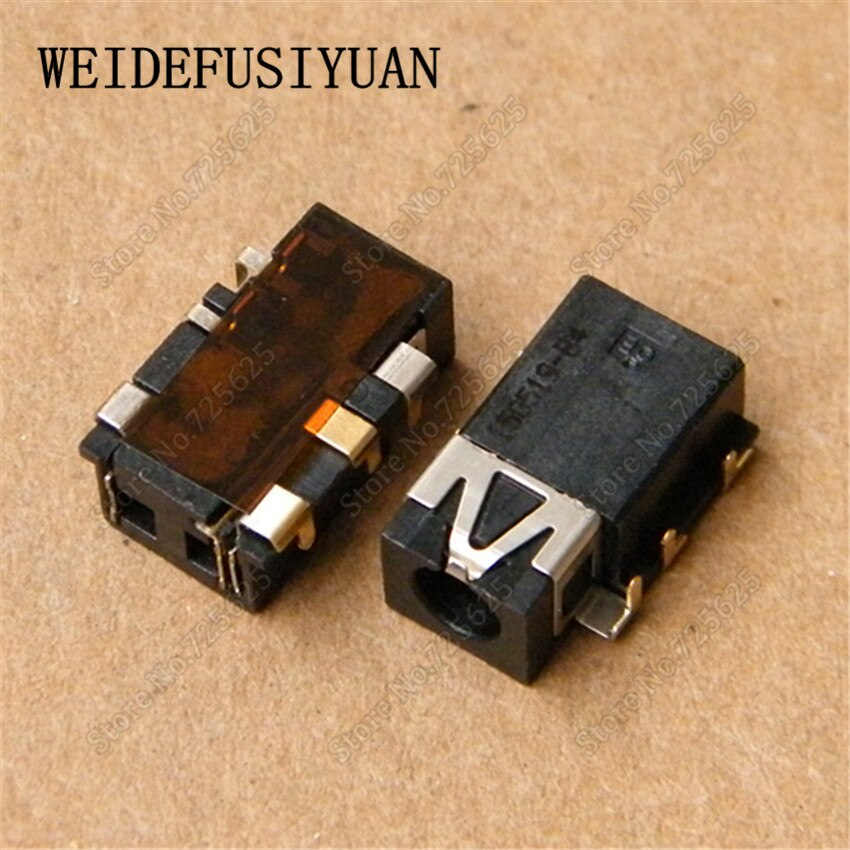aud: (370, 311, 754, 682)
